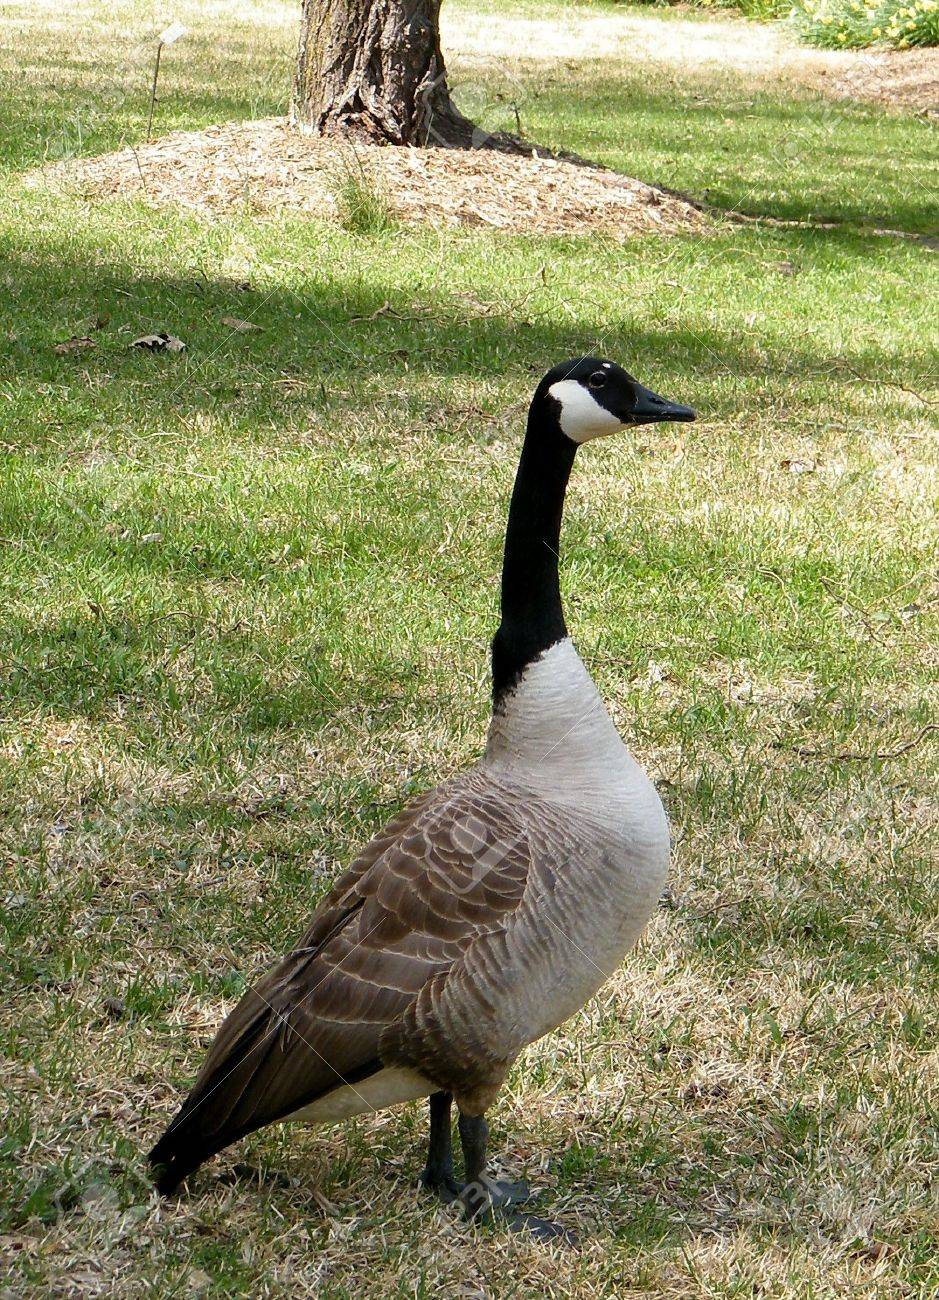goose: (142, 353, 701, 1231)
